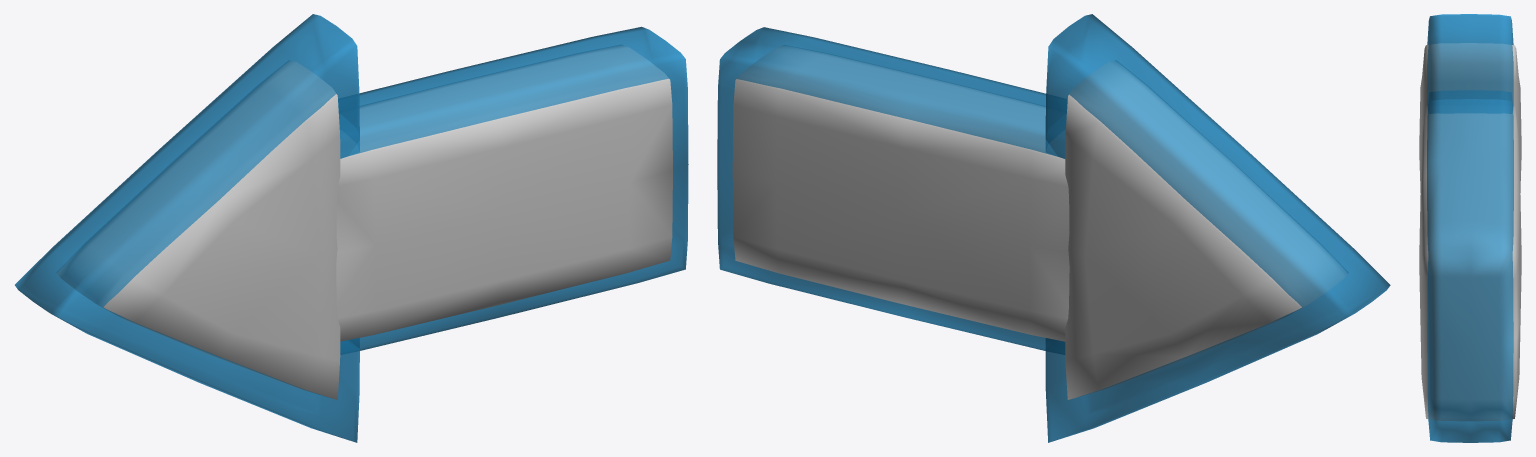
Rendered from arrowfirst.dae.
3 views of the same model, side by side, from view 1: azimuth 30°, elevation 25°; view 2: azimuth 150°, elevation 25°; view 3: azimuth 270°, elevation 25° (orthographic). The views are drawn at different scales.
Parts seen in each view (by area): view 1: polySurface6_001; view 2: polySurface6_001; view 3: polySurface6_001.
Part boxes in pixels (bbox=[...]): polySurface6_001: bbox=[15, 14, 688, 442]; polySurface6_001: bbox=[717, 14, 1390, 442]; polySurface6_001: bbox=[1419, 14, 1521, 442].
Bounding box in the file's own units: 0.0533 × 0.0322 × 0.00812.
